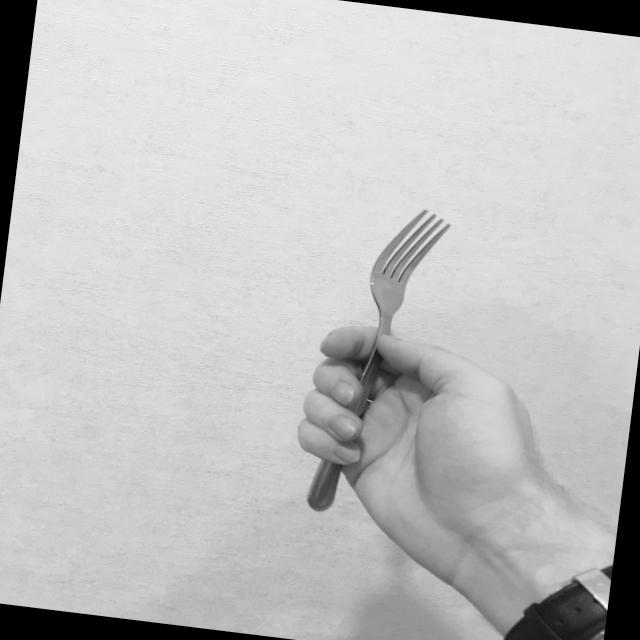fork: (302, 198, 453, 523)
